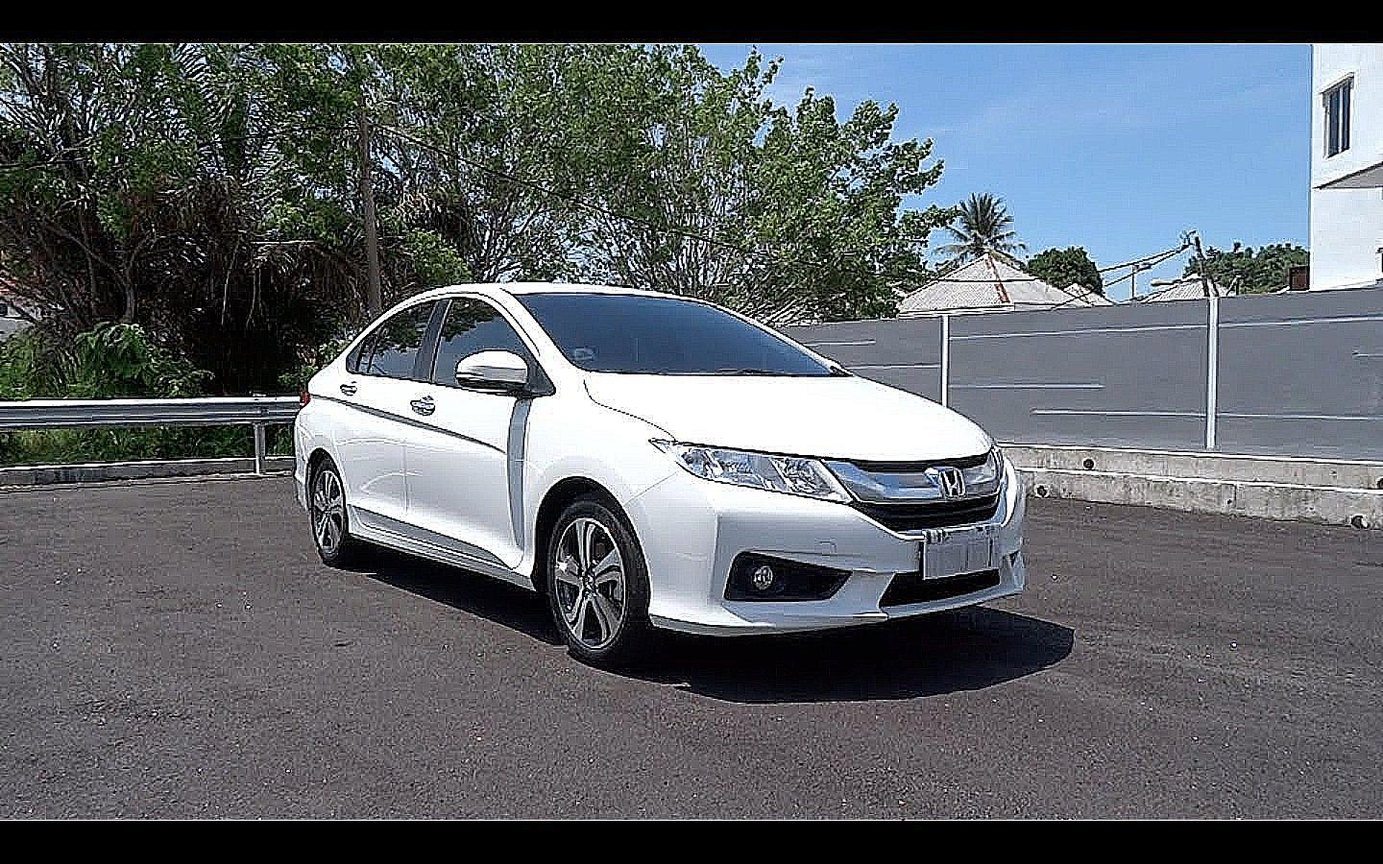Car hood: (579, 370, 995, 462)
Driver-s door - -F-R-: (401, 277, 527, 588)
Fender - -F-R-: (522, 351, 686, 512)
Fender - -R-R-: (288, 332, 370, 461)
Front bumper: (620, 466, 1028, 635)
Headlight - -R-: (649, 438, 858, 505)
Passenger-s door - -R-R-: (338, 284, 453, 544)
Rear bumper: (281, 428, 316, 519)
Side bumper - -R-: (339, 505, 544, 605)
Side mirror - -R-: (455, 351, 543, 404)
